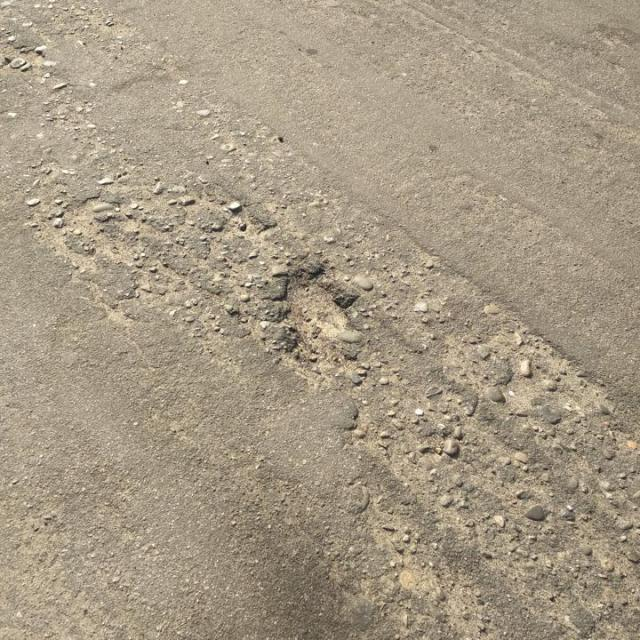Pothole: (278, 266, 365, 372), (216, 196, 275, 248)
